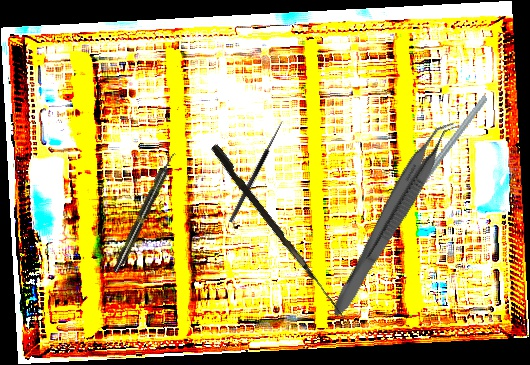Chopper: (371, 94, 519, 218)
Handpiece: (110, 150, 179, 275)
Hook Surgical: (207, 143, 353, 319), (223, 117, 285, 224)
Tissue Forceps: (327, 111, 461, 325)
